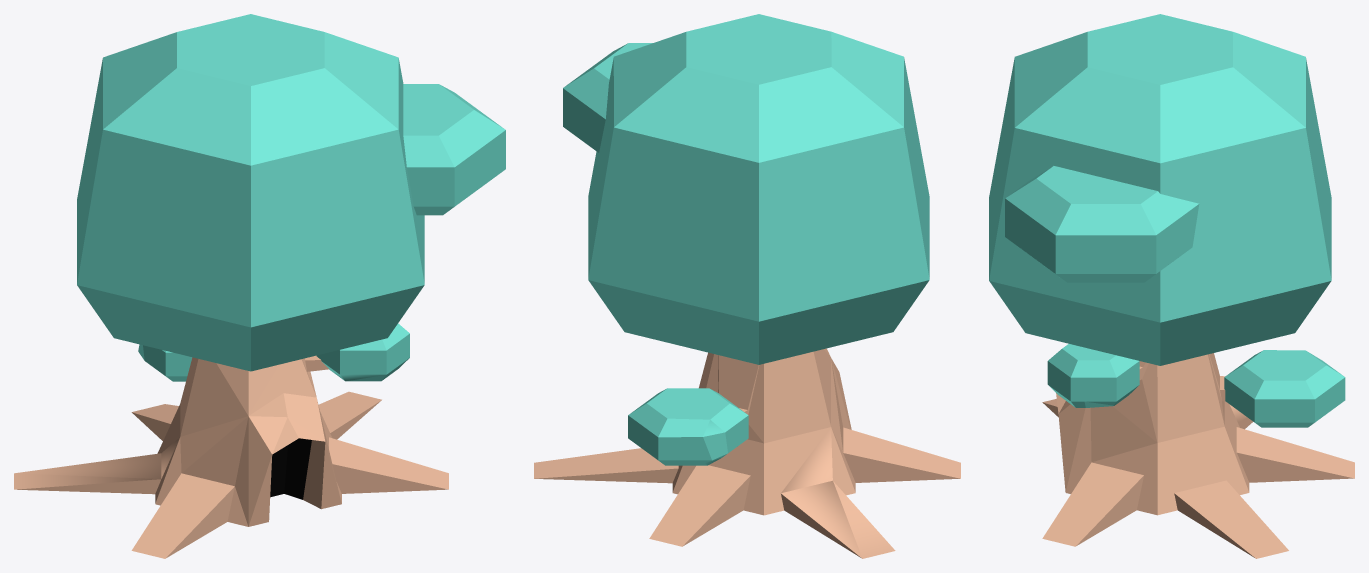
File: tree_entrance.glb
3 renders of one model, left to right at view 1: azimuth 30°, elevation 25°; view 2: azimuth 150°, elevation 25°; view 3: azimuth 270°, elevation 25°, orthographic.
Parts seen in each view (by area): view 1: tree_oak; view 2: tree_oak; view 3: tree_oak.
Part boxes in pixels (box(x1,y1,x2,y2)): tree_oak: box(14, 14, 505, 558); tree_oak: box(534, 14, 960, 558); tree_oak: box(989, 14, 1354, 558).
Bounding box in the file's own units: 4.09 × 4.3 × 3.37.
